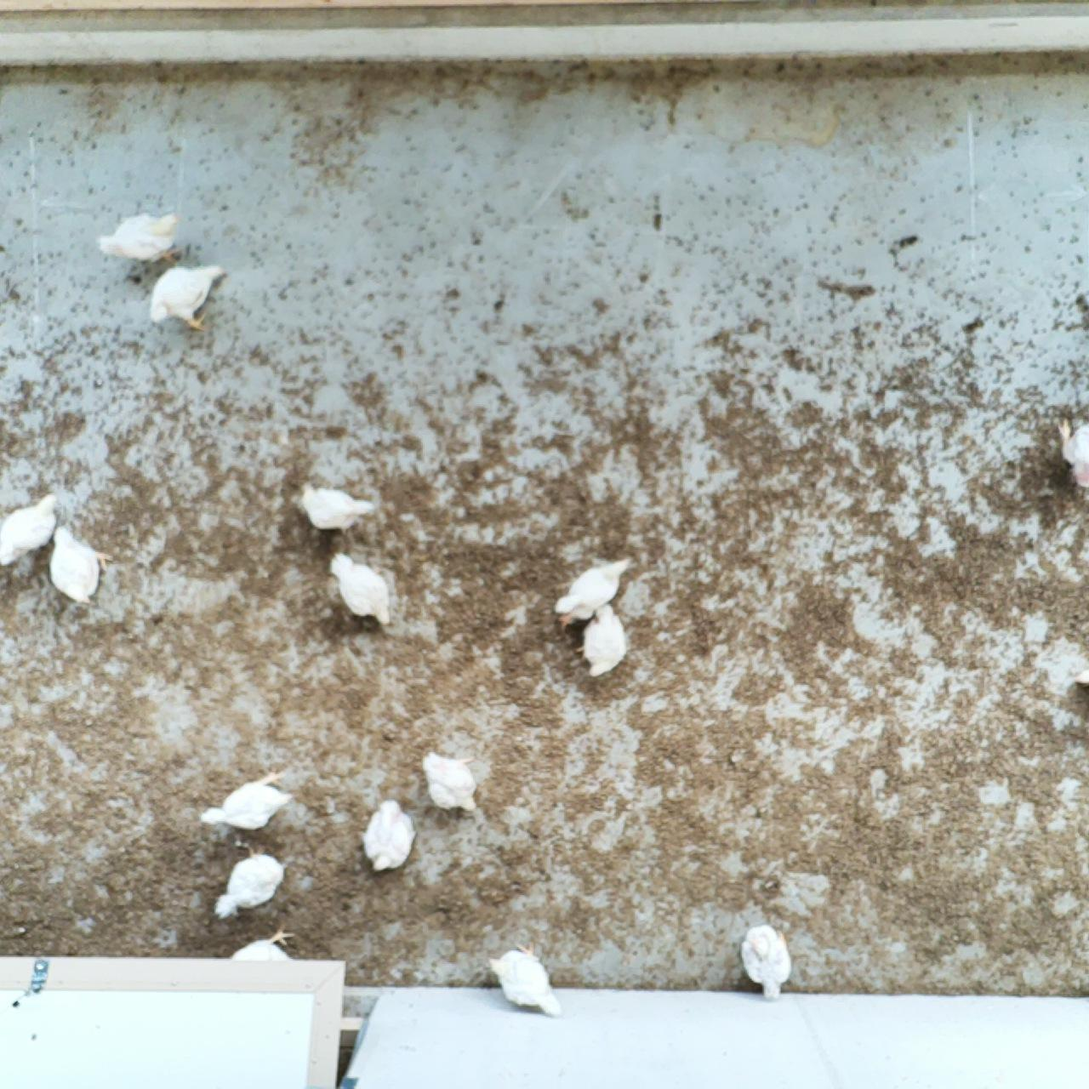chicken: (193, 767, 295, 837), (485, 938, 570, 1021), (550, 555, 640, 629), (145, 256, 230, 332), (212, 847, 292, 921), (91, 207, 185, 269), (326, 549, 396, 631), (47, 523, 113, 606), (735, 921, 795, 1009), (359, 792, 421, 876), (0, 487, 60, 568), (294, 480, 379, 532), (418, 747, 480, 817), (577, 599, 632, 676), (227, 924, 298, 963), (1057, 412, 1089, 493)
